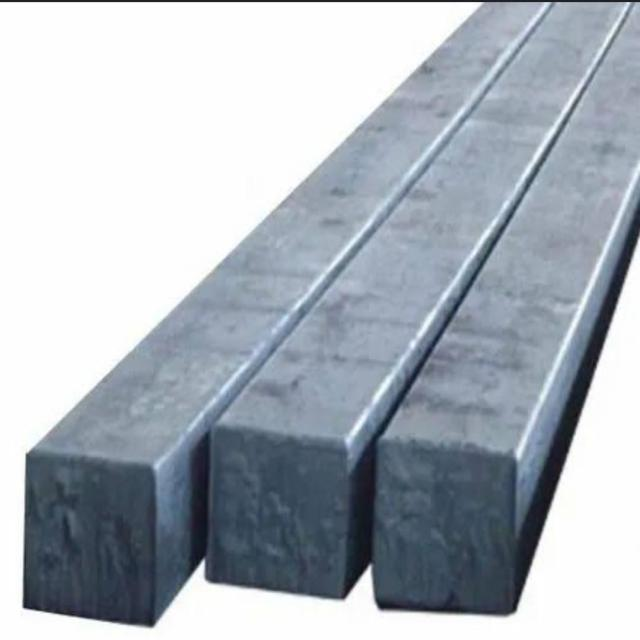Dry Waste: (22, 26, 623, 622)
